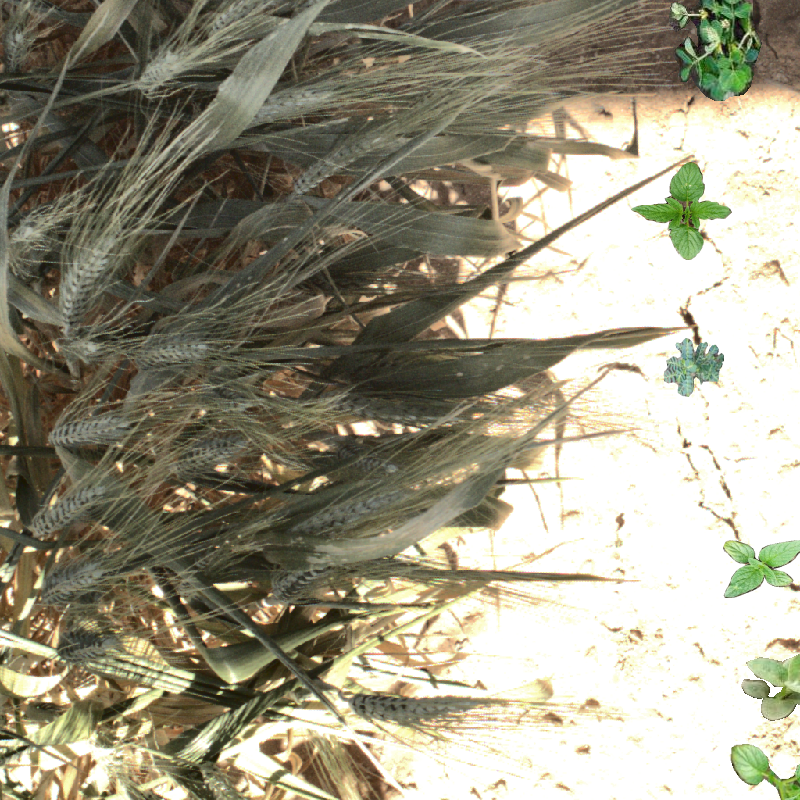spikelet: (288, 123, 390, 196), (343, 685, 489, 736), (290, 481, 410, 543), (3, 189, 85, 265), (55, 229, 118, 322), (334, 391, 452, 431), (167, 427, 259, 477), (28, 481, 106, 537), (252, 81, 343, 122), (36, 559, 106, 604), (133, 44, 192, 94), (47, 414, 129, 447), (46, 627, 128, 660), (135, 332, 210, 368), (206, 1, 283, 36), (57, 329, 102, 364), (1, 26, 33, 71), (201, 772, 247, 799)
weed: (631, 162, 732, 260), (669, 1, 762, 101), (723, 540, 800, 598), (741, 653, 800, 721), (730, 744, 800, 800), (664, 338, 724, 397)
